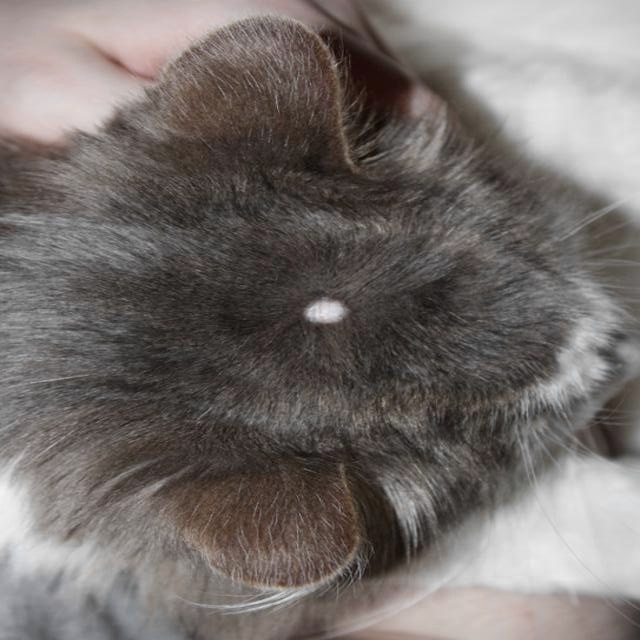lump_and_bump: (298, 297, 350, 322)
